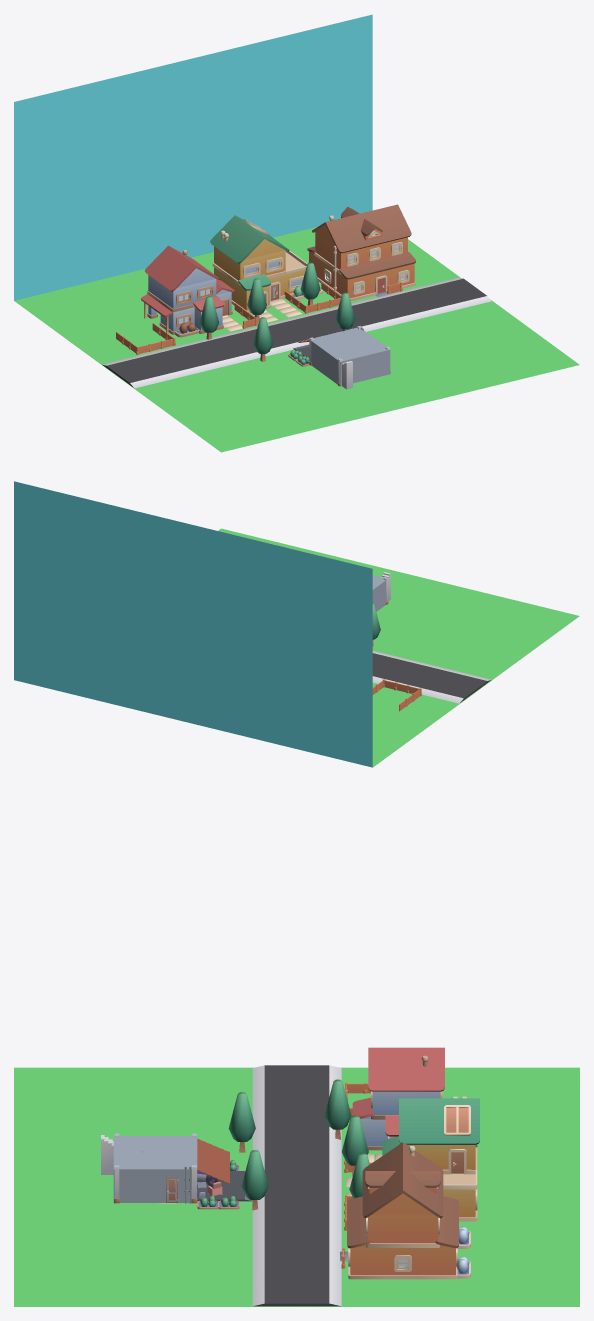
The model's file is LevelScene_3D.fbx_Scene.fbx.
3 views of the same model, one above another, from view 1: azimuth 30°, elevation 25°; view 2: azimuth 150°, elevation 25°; view 3: azimuth 270°, elevation 25° (orthographic). The views are drawn at different scales.
Visible parts, largest first — view 1: terrain, path-long, building-type-t, building-type-u, building-type-s, garagebox, fence-3x3.001, fence-3x3, tree-small.004, tree-small.003; view 2: terrain, path-long, fence-3x3.001, garagebox; view 3: terrain, path-long, building-type-t, building-type-u, building-type-s, garagebox, Cube, tree-small.004, tree-small.003, tree-small, tree-small.002, driveway-long.
Boxes of the visible parts, box(x1,y1,x2,y2) form: terrain: box(14, 14, 579, 452); path-long: box(102, 277, 491, 388); building-type-t: box(307, 204, 415, 301); building-type-u: box(210, 215, 322, 312); building-type-s: box(141, 245, 234, 337); garagebox: box(311, 328, 390, 386); fence-3x3.001: box(116, 323, 175, 354); fence-3x3: box(284, 282, 341, 313); tree-small.004: box(253, 317, 272, 361); tree-small.003: box(199, 296, 219, 339); terrain: box(14, 481, 579, 767); path-long: box(372, 651, 491, 703); fence-3x3.001: box(372, 679, 421, 711); garagebox: box(372, 575, 385, 611); terrain: box(14, 1067, 579, 1306); path-long: box(252, 1065, 341, 1306); building-type-t: box(347, 1142, 470, 1279); building-type-u: box(382, 1096, 479, 1221); building-type-s: box(352, 1047, 444, 1150); garagebox: box(113, 1136, 197, 1202); Cube: box(197, 1138, 229, 1183); tree-small.004: box(228, 1092, 255, 1152); tree-small.003: box(324, 1079, 351, 1139); tree-small: box(241, 1150, 268, 1210); tree-small.002: box(341, 1115, 368, 1176); driveway-long: box(197, 1171, 252, 1201).
Bounding box in the file's own units: 7344 × 3898 × 7344.
Materials: 17 (1 with a texture image).
